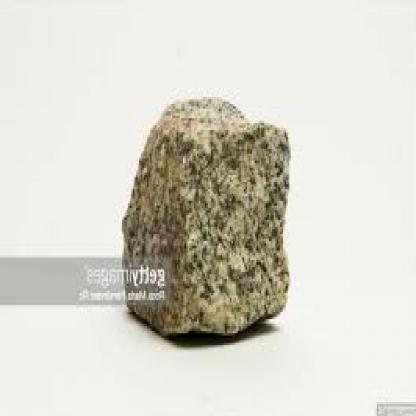Igneous_Diorite: (117, 85, 294, 348)
